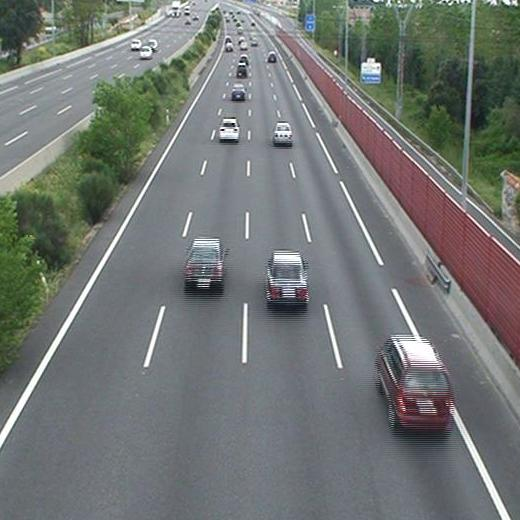car: (377, 337, 451, 429), (266, 253, 307, 303), (184, 238, 222, 288), (220, 119, 240, 140), (274, 122, 292, 145), (231, 84, 245, 99), (236, 63, 247, 75), (268, 51, 278, 62), (240, 55, 248, 63), (224, 43, 232, 50), (240, 41, 247, 48)
